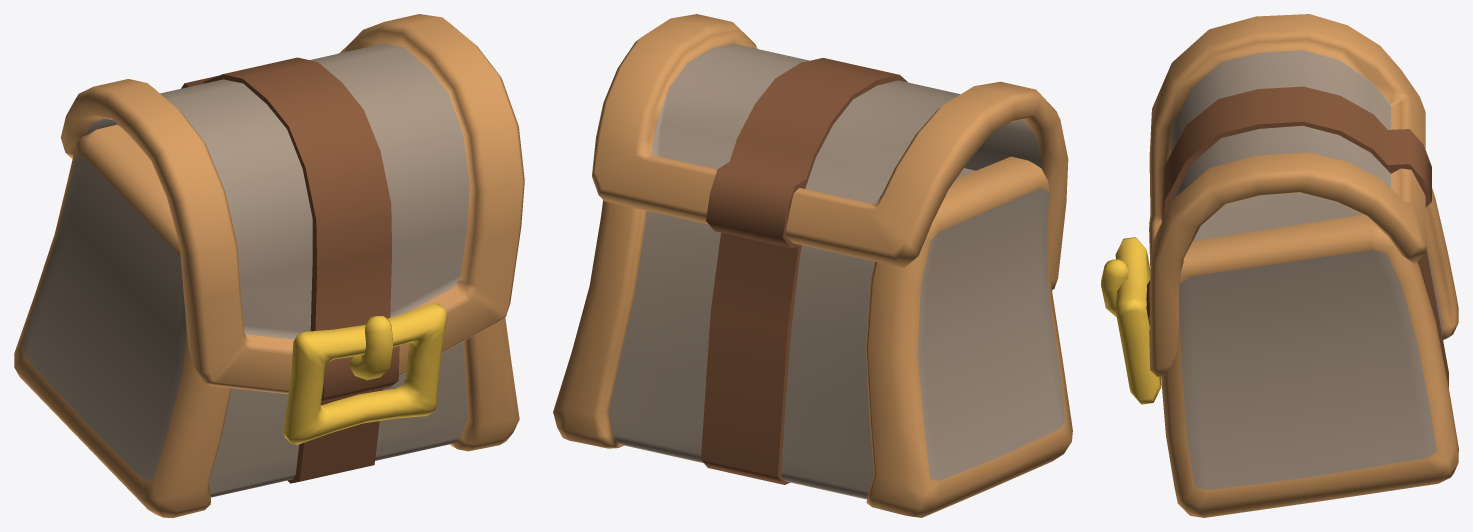
3 views of the same model, side by side, from view 1: azimuth 30°, elevation 25°; view 2: azimuth 150°, elevation 25°; view 3: azimuth 270°, elevation 25° (orthographic). The views are drawn at different scales.
Parts seen in each view (by area): view 1: model_1.002; view 2: model_1.002; view 3: model_1.002.
Boxes of the visible parts, x1,y1,x2,y2 form: model_1.002: (14,14,524,517); model_1.002: (553,14,1072,517); model_1.002: (1101,14,1458,517).
Size of the model in its own units: 4.31 by 4.21 by 3.83.
